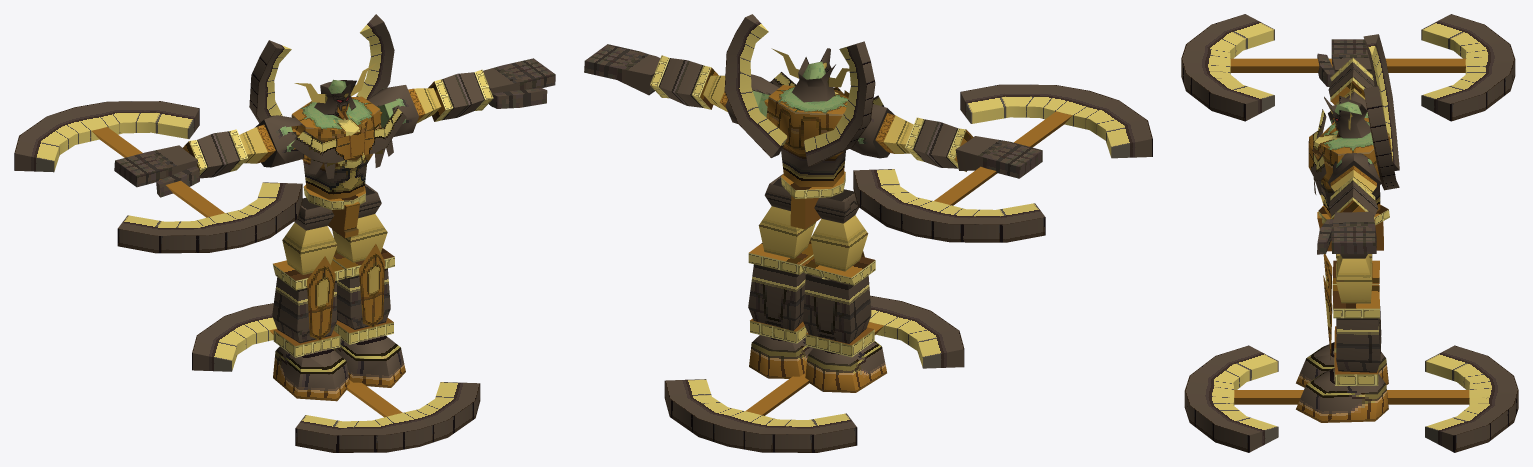
3 views of the same model, side by side, from view 1: azimuth 30°, elevation 25°; view 2: azimuth 150°, elevation 25°; view 3: azimuth 270°, elevation 25° (orthographic). The views are drawn at different scales.
Parts seen in each view (by area): view 1: realb10_2, weapon_B_3, realb10_4, realb10_7, realb10_1, realb10, realb10_5, weapon_B_8, weapon_A_3, realb10_3, realb10_6, weapon_A_8; view 2: realb10_2, realb10_4, realb10_7, weapon_B_3, realb10_5, realb10_1, realb10, weapon_B_8, realb10_3, weapon_A_3, realb10_6; view 3: realb10_4, realb10_7, realb10_2, weapon_B_3, realb10_5, realb10_1, realb10_3, realb10_6, realb10, weapon_B_8, weapon_A_3.
Part boxes in pixels (bbox=[...]): realb10_2: bbox=[114, 58, 555, 401]; weapon_B_3: bbox=[239, 88, 441, 339]; realb10_4: bbox=[14, 101, 302, 253]; realb10_7: bbox=[192, 303, 480, 452]; realb10_1: bbox=[197, 63, 484, 230]; realb10: bbox=[189, 69, 493, 357]; realb10_5: bbox=[249, 14, 394, 123]; weapon_B_8: bbox=[182, 81, 445, 346]; weapon_A_3: bbox=[292, 96, 379, 132]; realb10_3: bbox=[92, 127, 224, 217]; realb10_6: bbox=[269, 328, 402, 417]; weapon_A_8: bbox=[256, 88, 425, 163]; realb10_2: bbox=[584, 44, 1042, 392]; realb10_4: bbox=[853, 84, 1152, 242]; realb10_7: bbox=[664, 295, 964, 452]; weapon_B_3: bbox=[703, 72, 913, 271]; realb10_5: bbox=[724, 14, 875, 166]; realb10_1: bbox=[658, 48, 958, 223]; realb10: bbox=[650, 55, 966, 357]; weapon_B_8: bbox=[700, 67, 973, 345]; realb10_3: bbox=[934, 111, 1072, 205]; weapon_A_3: bbox=[769, 85, 848, 114]; realb10_6: bbox=[745, 322, 883, 415]; realb10_4: bbox=[1181, 14, 1515, 121]; realb10_7: bbox=[1184, 345, 1518, 452]; realb10_2: bbox=[1296, 39, 1388, 422]; weapon_B_3: bbox=[1308, 88, 1392, 359]; realb10_5: bbox=[1363, 34, 1399, 190]; realb10_1: bbox=[1324, 62, 1378, 258]; realb10_3: bbox=[1230, 58, 1465, 72]; realb10_6: bbox=[1234, 390, 1469, 404]; realb10: bbox=[1318, 57, 1389, 385]; weapon_B_8: bbox=[1309, 81, 1388, 374]; weapon_A_3: bbox=[1314, 118, 1388, 153].
Bounding box in the file's own units: 50.44 × 34.9 × 30.71.
Materials: 8 (8 with a texture image).
